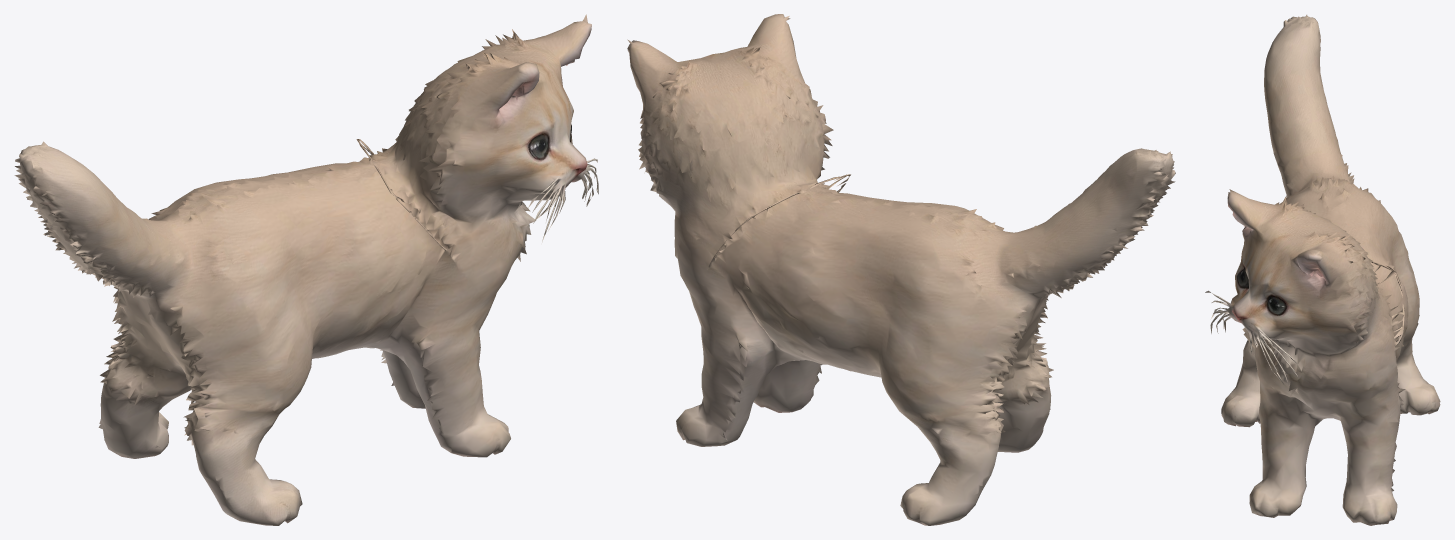
Rendered from SKEINKIT.glb.
3 views of the same model, side by side, from view 1: azimuth 30°, elevation 25°; view 2: azimuth 150°, elevation 25°; view 3: azimuth 270°, elevation 25° (orthographic). The views are drawn at different scales.
Visible parts, largest first — view 1: tripo_node_eb901f3c-e77e-4e0c-afb1-659ac82ae002; view 2: tripo_node_eb901f3c-e77e-4e0c-afb1-659ac82ae002; view 3: tripo_node_eb901f3c-e77e-4e0c-afb1-659ac82ae002.
Part boxes in pixels (<box>): tripo_node_eb901f3c-e77e-4e0c-afb1-659ac82ae002: <box>14,14,598,525</box>; tripo_node_eb901f3c-e77e-4e0c-afb1-659ac82ae002: <box>627,14,1175,525</box>; tripo_node_eb901f3c-e77e-4e0c-afb1-659ac82ae002: <box>1205,14,1440,525</box>.
Size of the model in its own units: 1.52 by 1 by 0.649.
1 material, 1 textured.
